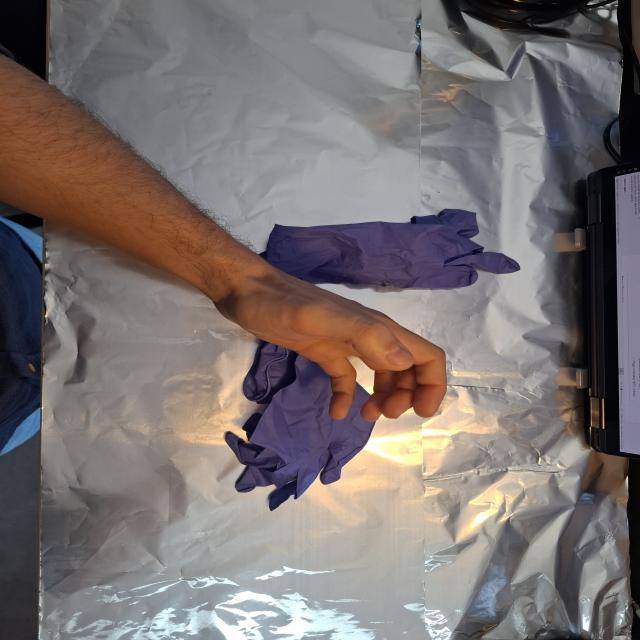glove_off: (208, 268, 450, 424)
